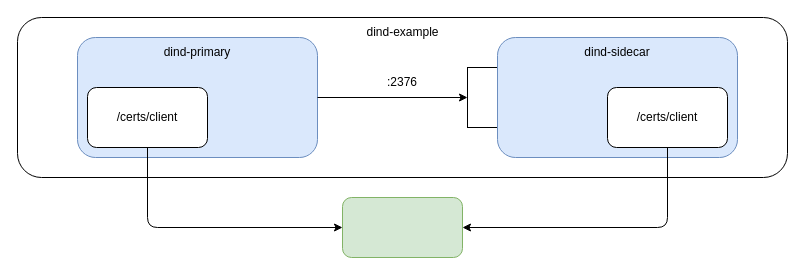
Image size: 805x275. Some labels were removed from this diagram. Here are the shapes that lost their labels. From the top down, the centre of each, then its label:
point (482, 97): sidecar
point (402, 227): dind-sidecar-certs-client
